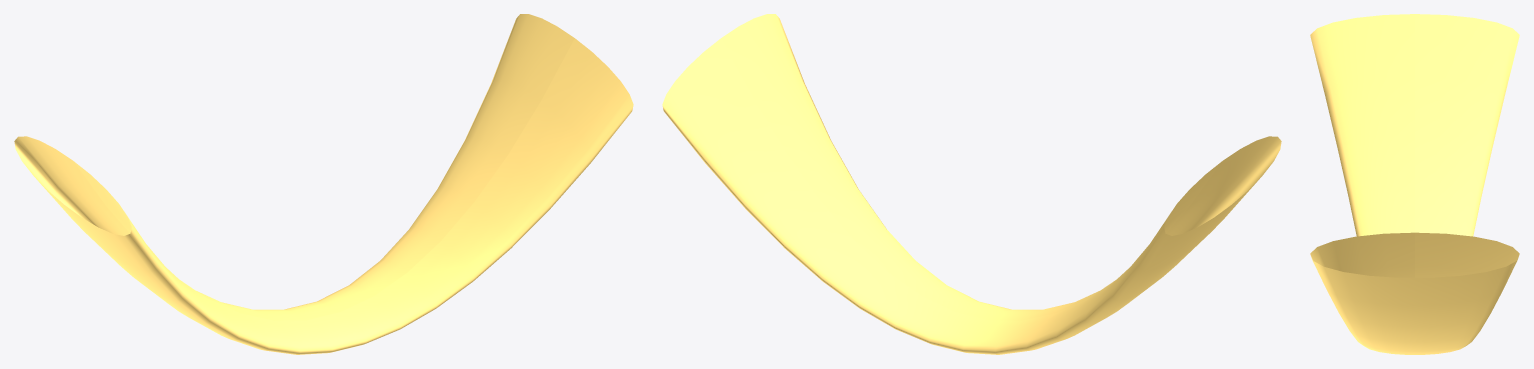
The model's file is yuanbao.glb.
3 renders of one model, left to right at view 1: azimuth 30°, elevation 25°; view 2: azimuth 150°, elevation 25°; view 3: azimuth 270°, elevation 25°, orthographic. The views are drawn at different scales.
Visible parts, largest first — view 1: Yuanbao; view 2: Yuanbao; view 3: Yuanbao.
Boxes of the visible parts, x1,y1,x2,y2 form: Yuanbao: (14,14,633,354); Yuanbao: (662,14,1281,354); Yuanbao: (1310,14,1519,354).
Bounding box in the file's own units: 1.24 × 0.5637 × 0.5026.
